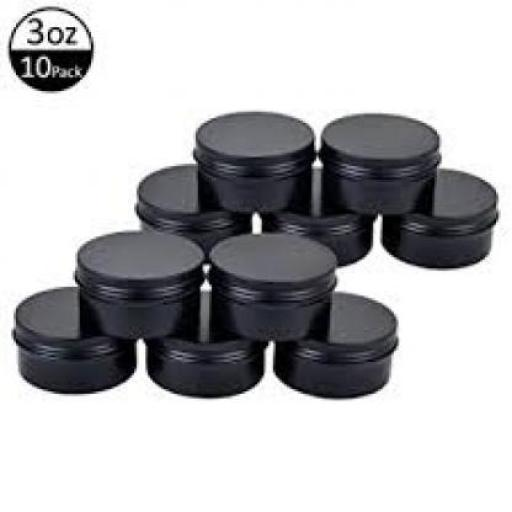metal: (73, 232, 203, 339), (11, 287, 134, 394), (274, 291, 396, 396), (212, 237, 334, 341), (191, 109, 314, 210), (319, 112, 439, 214), (146, 291, 261, 396), (380, 166, 496, 266), (260, 164, 370, 266), (134, 164, 250, 243)
